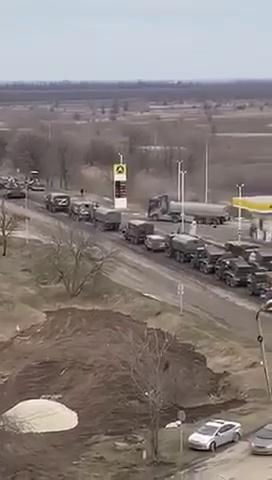car: (190, 415, 242, 457), (251, 420, 272, 460), (145, 236, 165, 252)
rszo: (215, 260, 253, 288), (246, 266, 272, 303), (191, 247, 226, 274)
tank: (0, 181, 35, 203)
truck: (148, 194, 230, 226), (166, 234, 204, 262), (122, 220, 154, 246), (90, 206, 121, 232), (70, 196, 96, 226), (44, 192, 70, 214)
